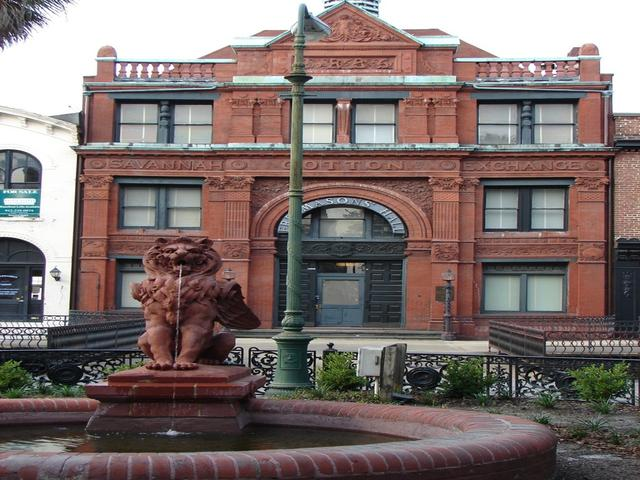lion: (101, 219, 295, 400)
